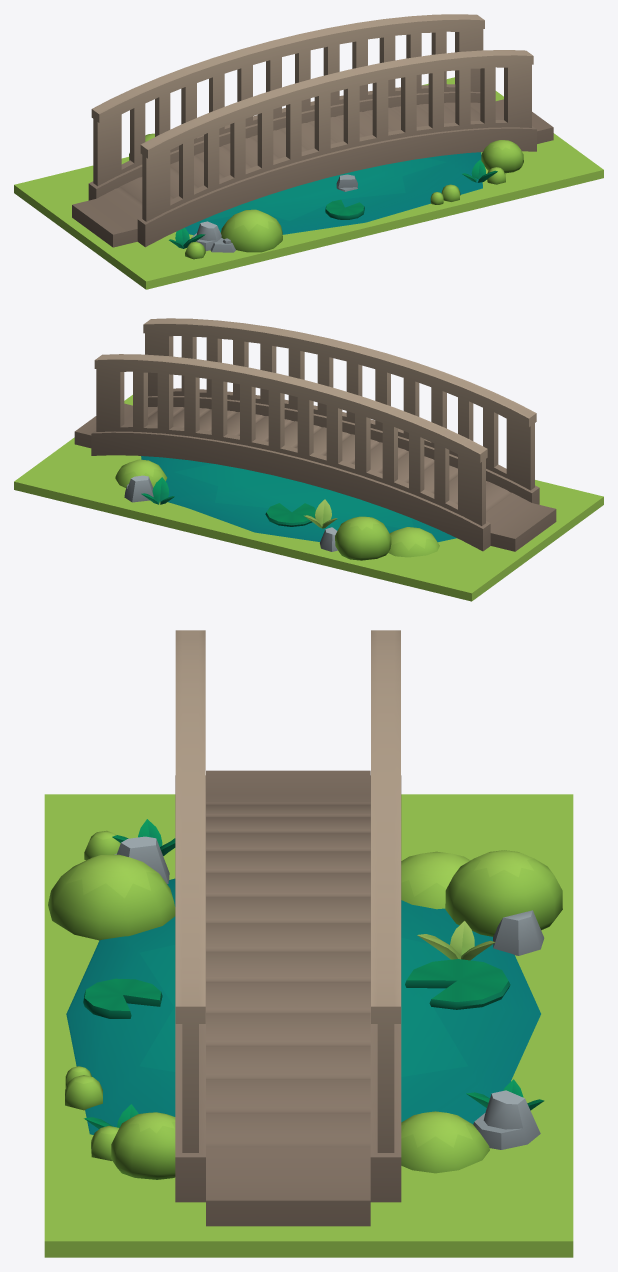
The model's file is bridge.glb.
3 views of the same model, one above another, from view 1: azimuth 30°, elevation 25°; view 2: azimuth 150°, elevation 25°; view 3: azimuth 270°, elevation 25° (orthographic). The views are drawn at different scales.
Visible parts, largest first — view 1: Bridge; view 2: Bridge; view 3: Bridge.
Part boxes in pixels (x1,y1,x2,y2): Bridge: (14,14,603,289); Bridge: (14,318,603,601); Bridge: (44,630,573,1257).
Bounding box in the file's own units: 0.58 × 0.183 × 0.29.
2 materials, 2 textured.
